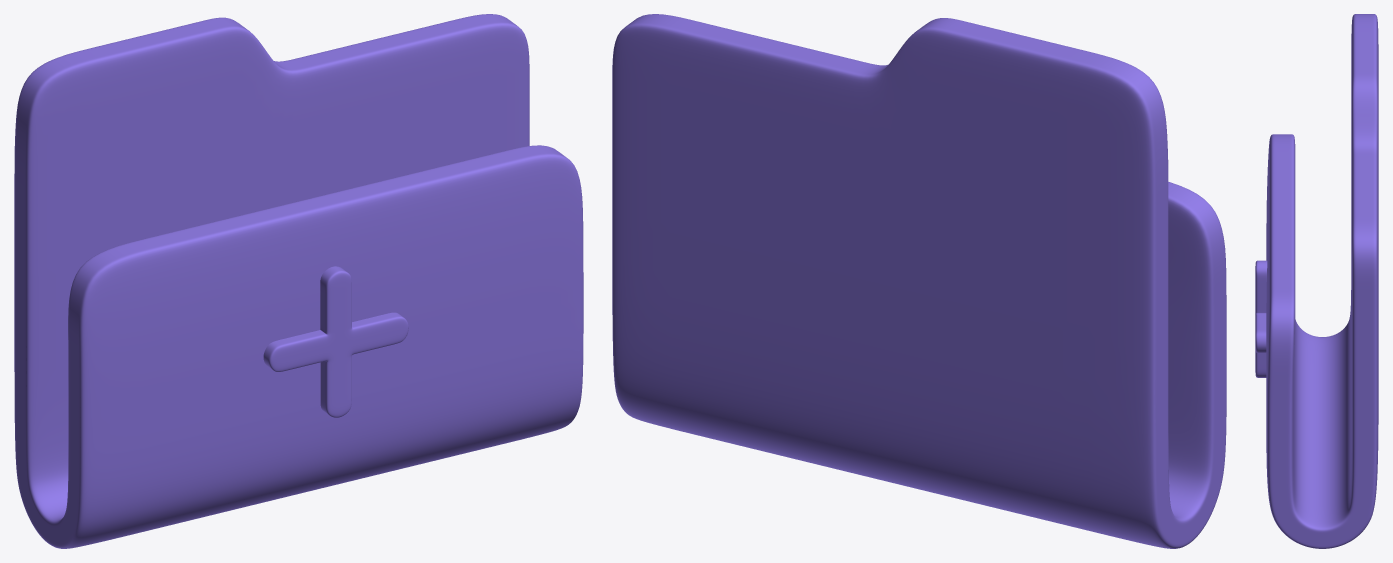
File: folder-new.glb
The picture shows the model from 3 angles, left to right: view 1: azimuth 30°, elevation 25°; view 2: azimuth 150°, elevation 25°; view 3: azimuth 270°, elevation 25°; orthographic projection. The views are drawn at different scales.
Parts seen in each view (by area): view 1: Folder Plus; view 2: Folder Plus; view 3: Folder Plus.
Part boxes in pixels (bbox=[...]): Folder Plus: bbox=[14, 14, 583, 548]; Folder Plus: bbox=[612, 14, 1226, 548]; Folder Plus: bbox=[1255, 14, 1378, 548].
Bounding box in the file's own units: 1.9 × 1.65 × 0.5124.
